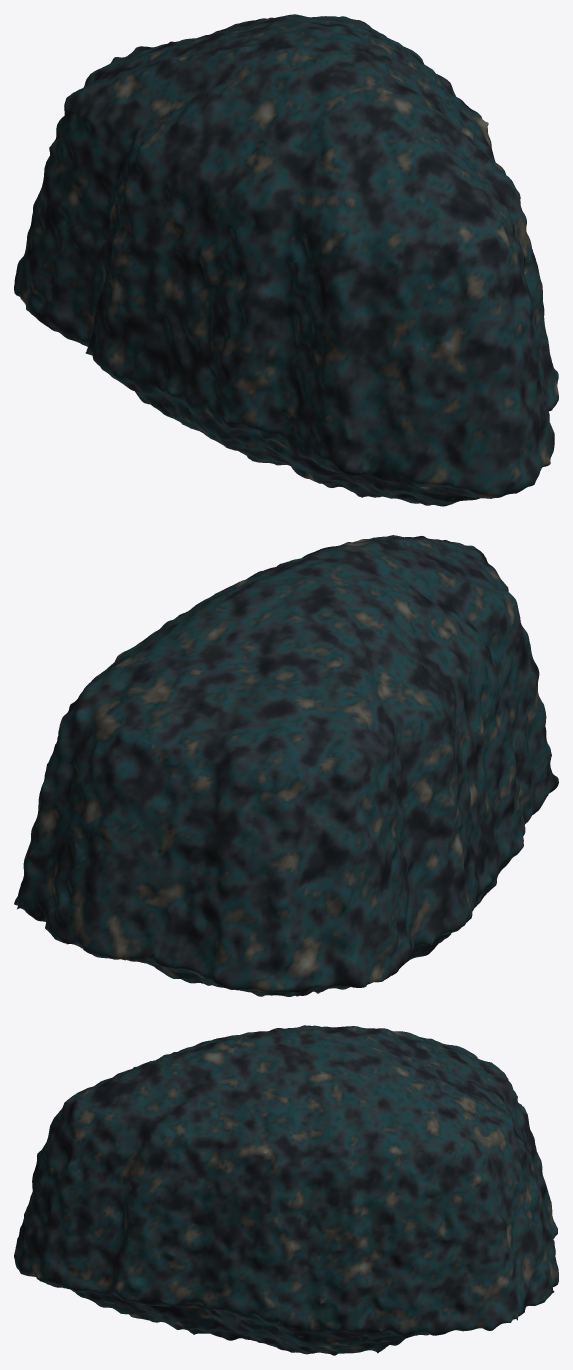
Rendered from closed-geode.glb.
The picture shows the model from 3 angles, top to bottom: view 1: azimuth 30°, elevation 25°; view 2: azimuth 150°, elevation 25°; view 3: azimuth 270°, elevation 25°; orthographic projection. The views are drawn at different scales.
Parts seen in each view (by area): view 1: closed_geode; view 2: closed_geode; view 3: closed_geode.
Part boxes in pixels (<box>): closed_geode: <box>14,14,558,506</box>; closed_geode: <box>14,535,558,996</box>; closed_geode: <box>14,1025,558,1355</box>.
Bounding box in the file's own units: 2.48 × 2.51 × 4.08.
